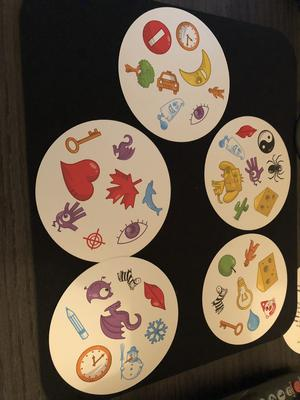coeur: (58, 156, 101, 203)
feuille: (103, 165, 142, 211)
horloge: (172, 19, 202, 52)
lune: (176, 50, 215, 87)
sens_interdit: (140, 16, 173, 57)
voiture: (154, 67, 181, 96)
